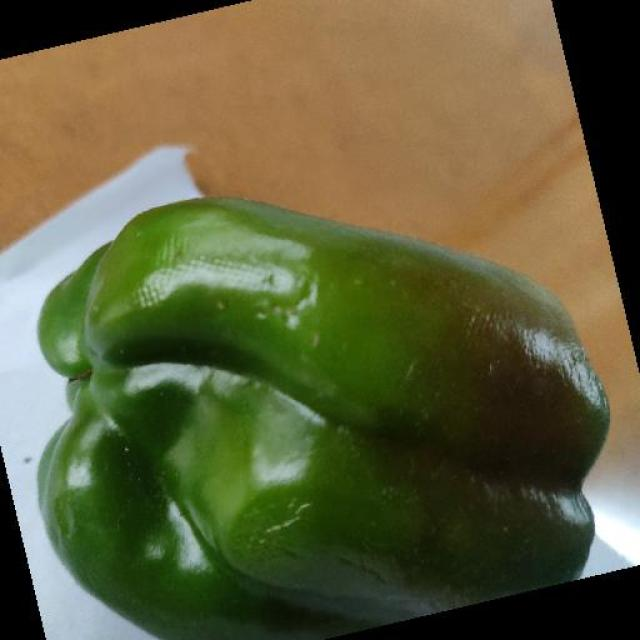Stale_Capsicum: (11, 180, 572, 574)
